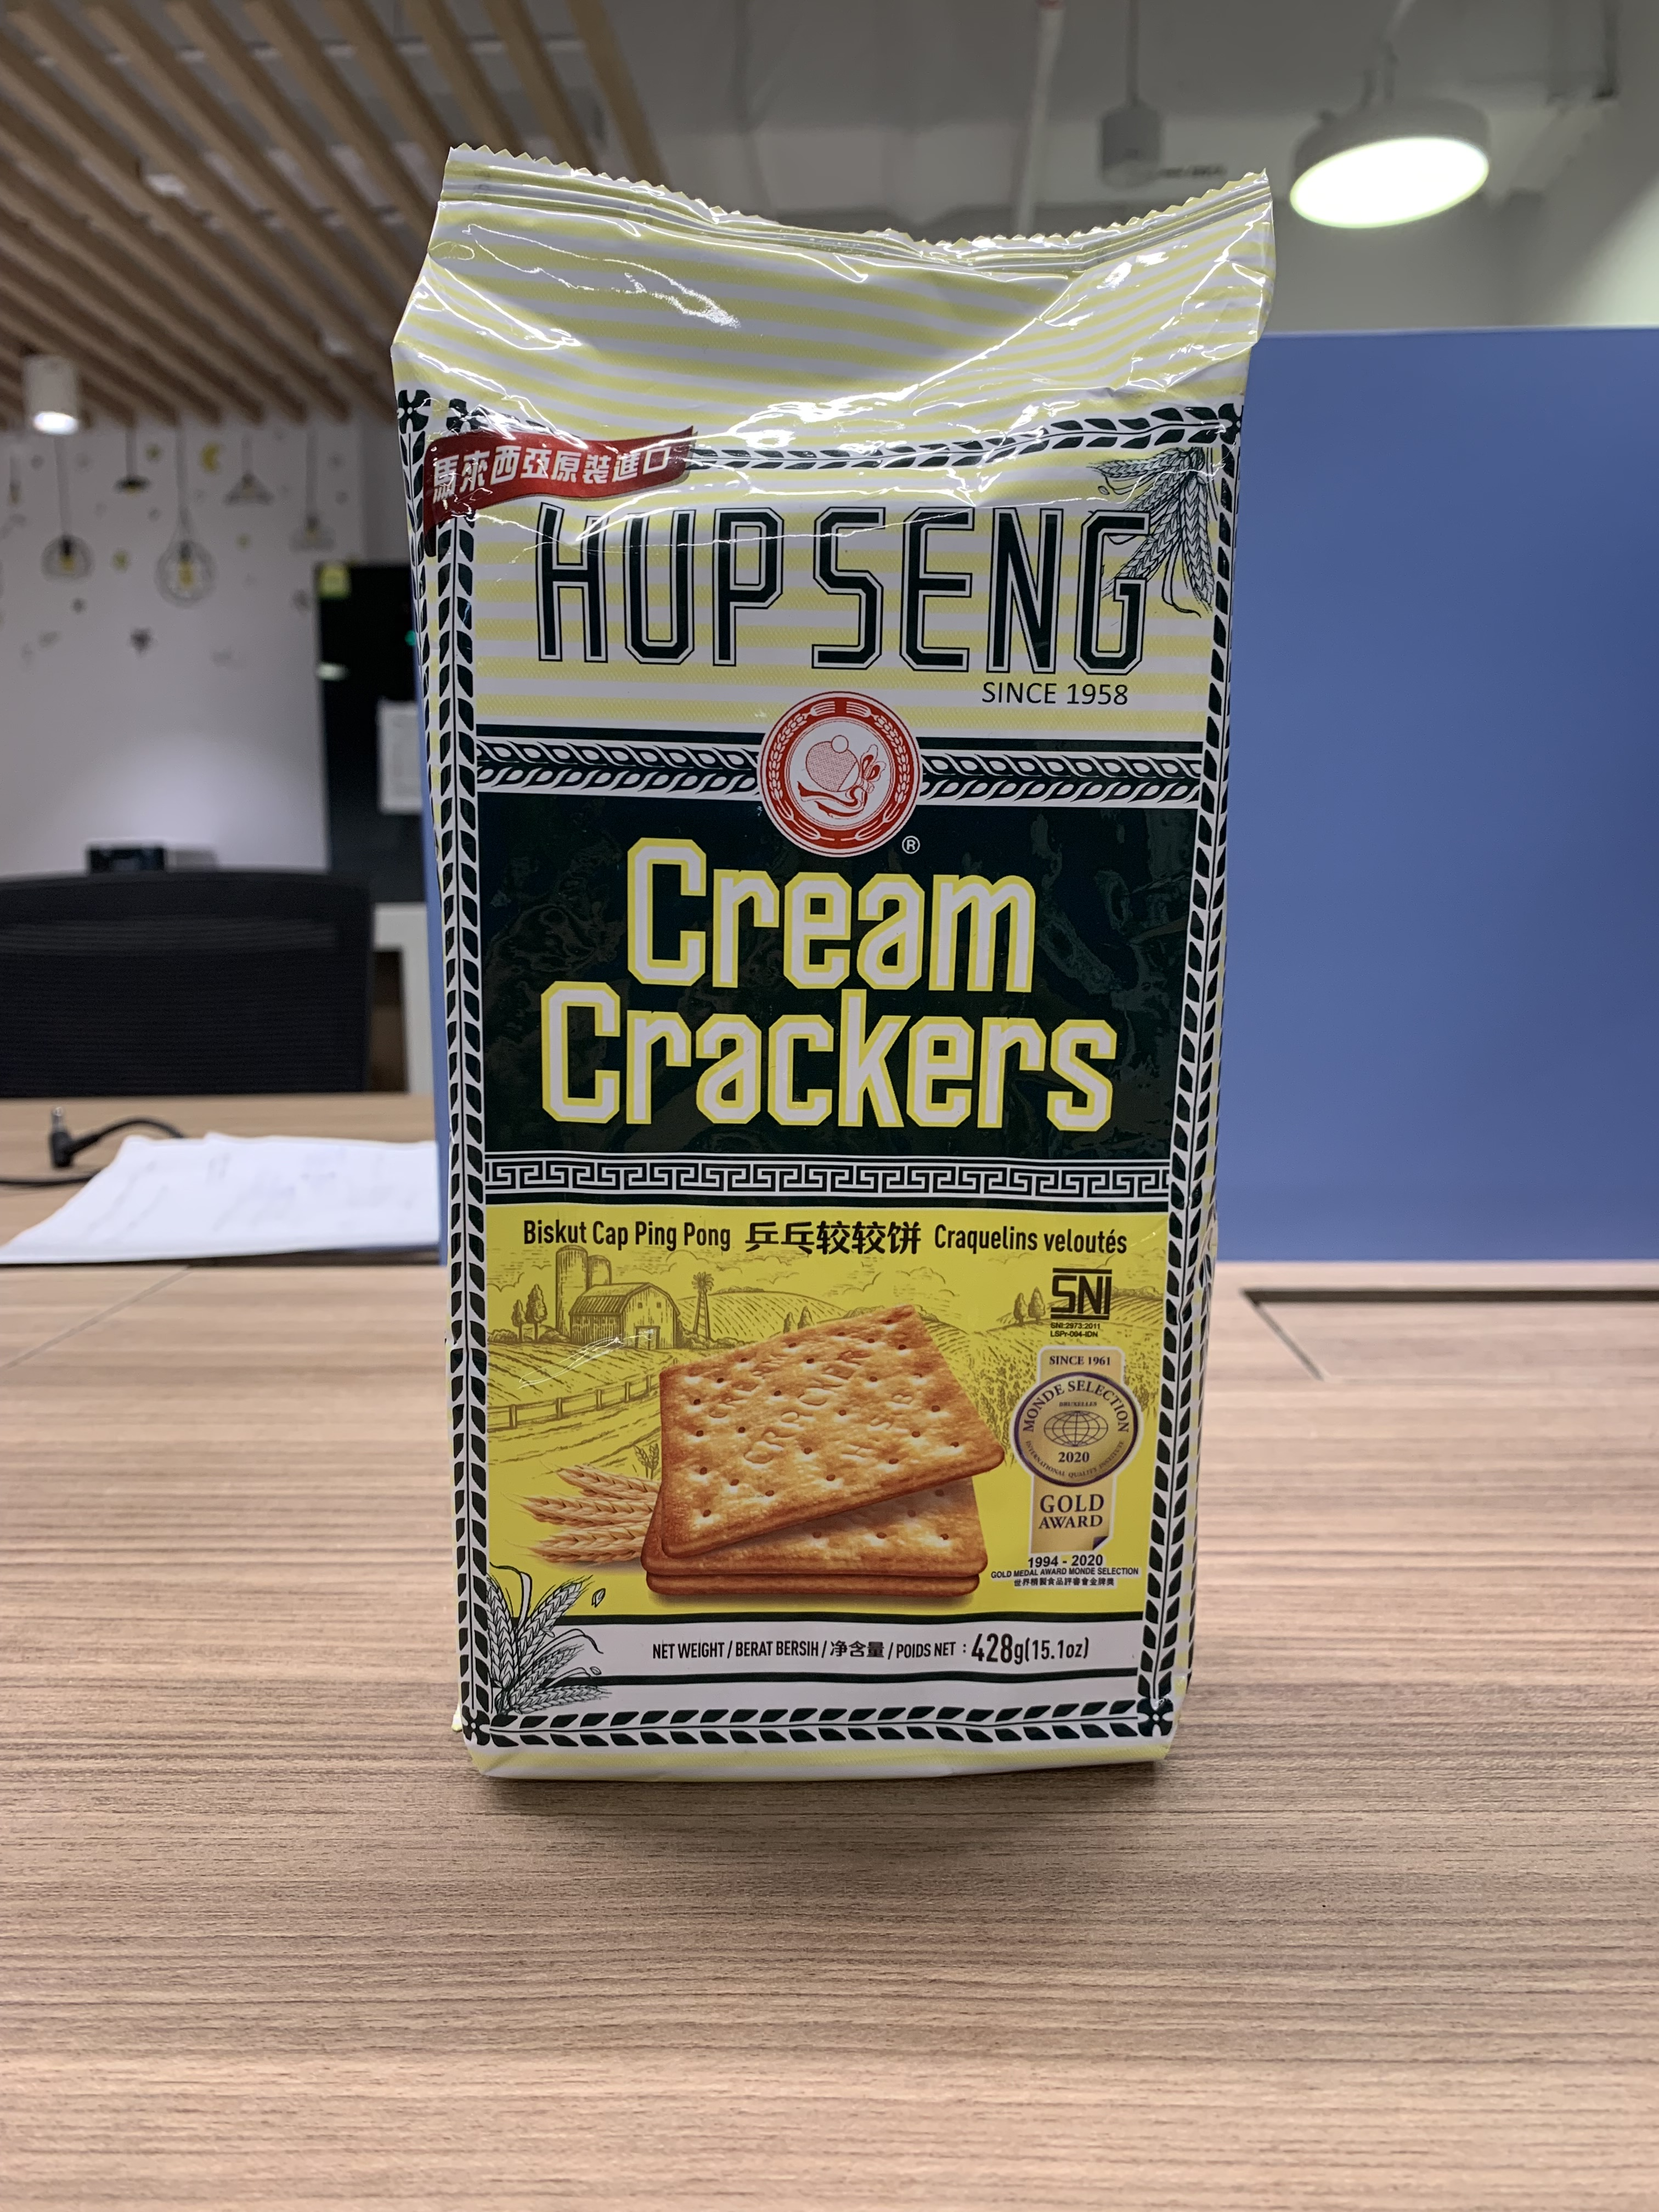crackers_400g-499g: (413, 327, 1188, 1754)
